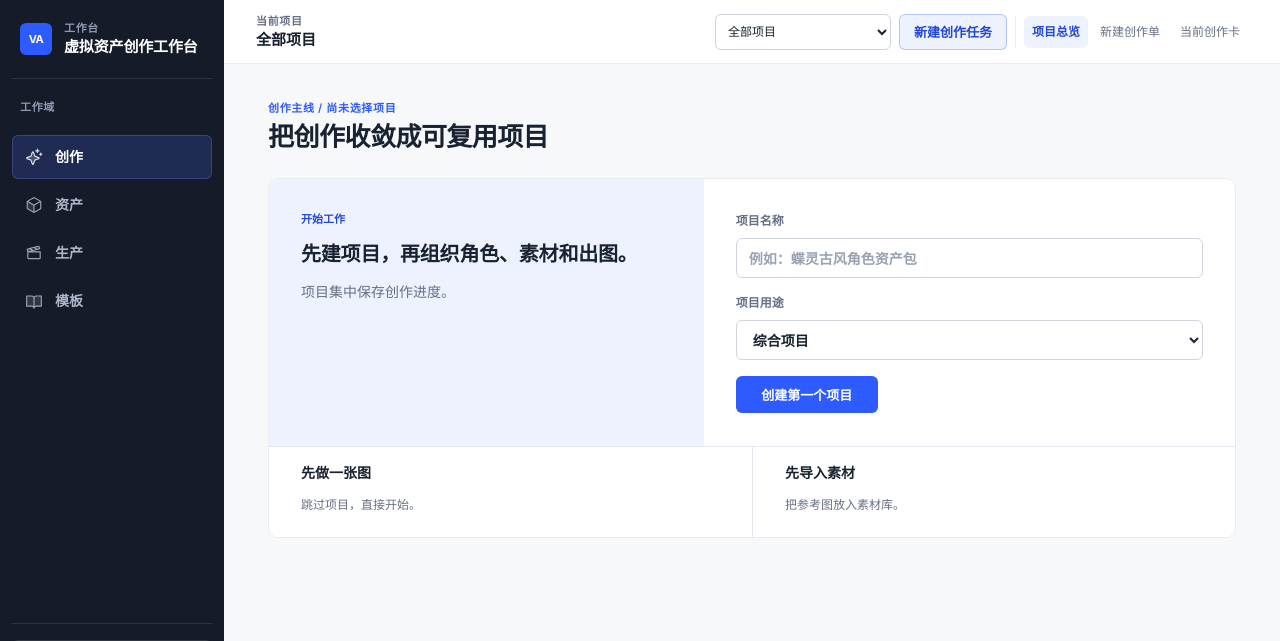
Test case: 从已选角色建立角色设定板时锁定角色 ID 与 4:3 画幅
Click the button "资产" at (112, 205), box [12, 183, 212, 227]
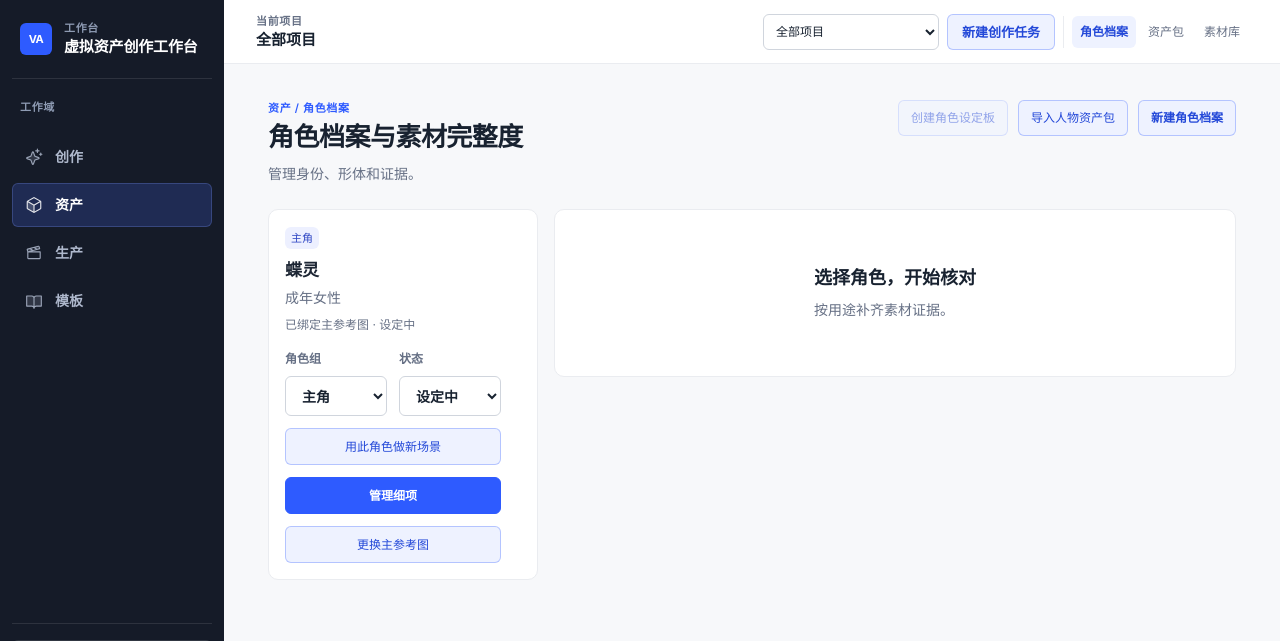
Click the button "管理细项" at (393, 496), box [285, 477, 501, 514]
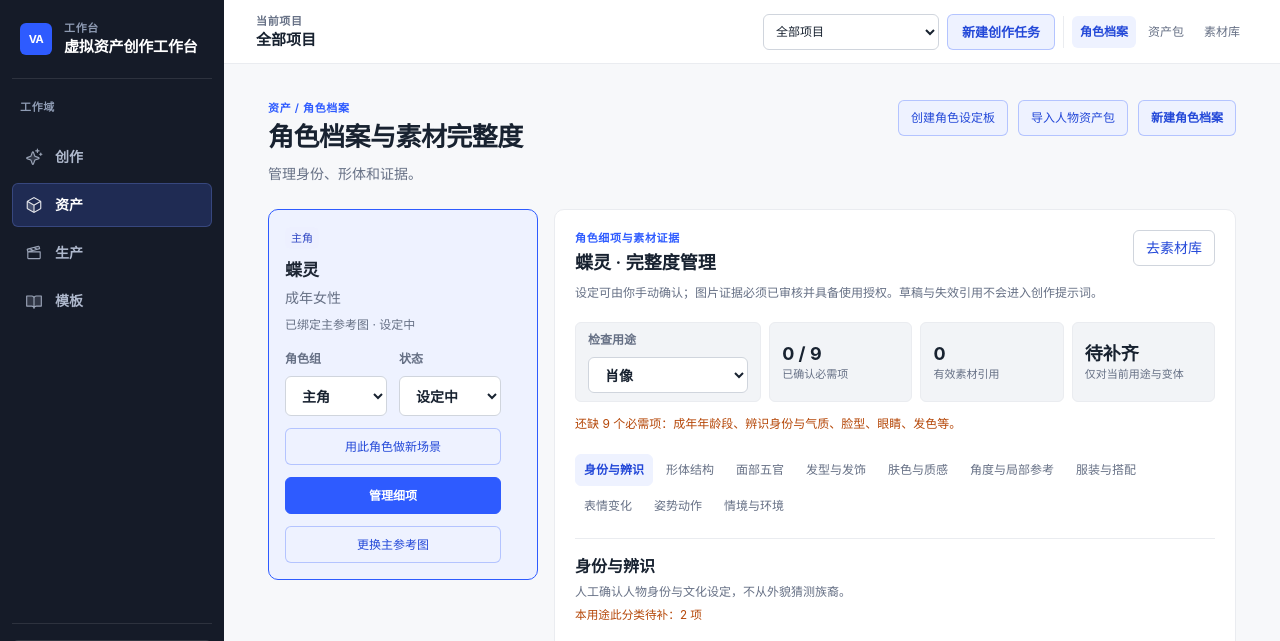
Click the button "创建角色设定板" at (953, 118), box [898, 100, 1008, 136]
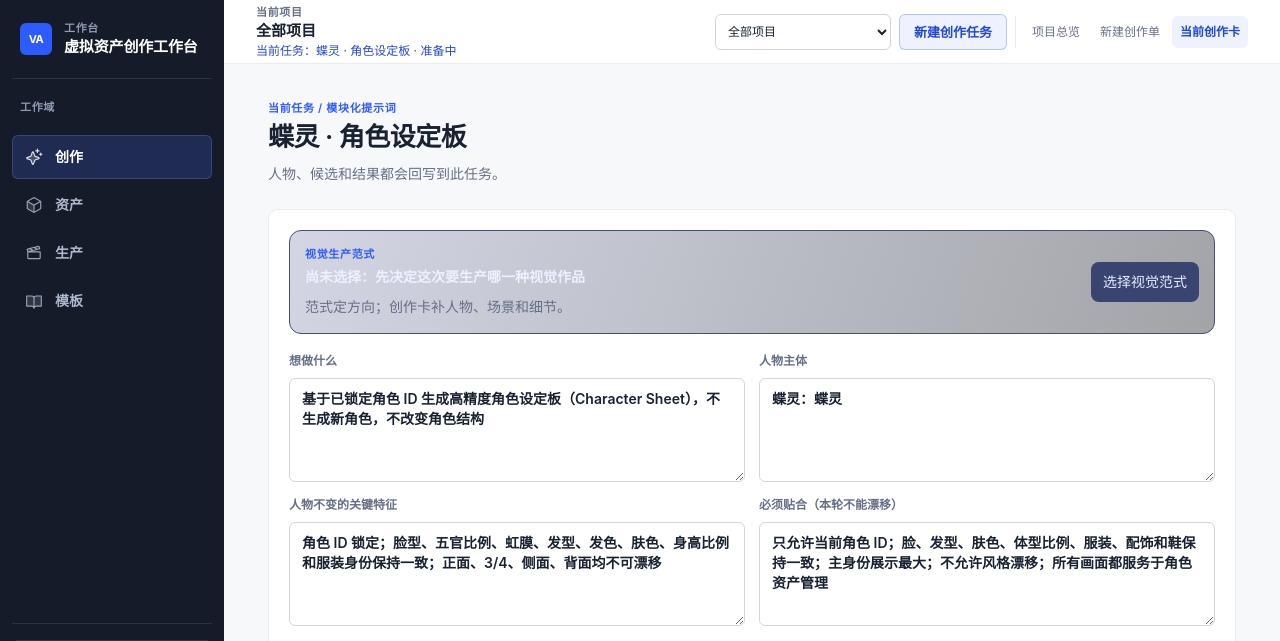
Expected: the heading "蝶灵 · 角色设定板" is shown, [268, 121, 466, 152]
